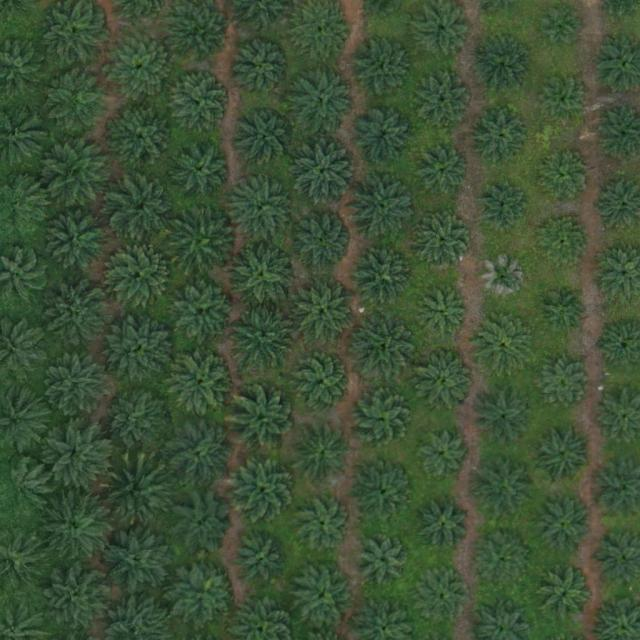Dead: (481, 256, 528, 303)
Healthy: (106, 33, 177, 104), (169, 206, 240, 277), (229, 454, 300, 525), (44, 421, 115, 492), (45, 139, 115, 210), (109, 103, 179, 174), (226, 175, 296, 246), (227, 241, 297, 312), (232, 303, 302, 374), (291, 137, 361, 208), (349, 172, 419, 243), (349, 313, 419, 384), (228, 385, 298, 456), (102, 387, 172, 458), (102, 459, 172, 530), (42, 565, 113, 635), (44, 207, 114, 277), (43, 350, 113, 420), (109, 175, 179, 245), (108, 315, 178, 385), (104, 525, 174, 595), (39, 492, 109, 562), (170, 3, 233, 66), (172, 140, 235, 203), (352, 245, 415, 308), (472, 385, 535, 448), (474, 457, 537, 520), (292, 565, 355, 628), (169, 352, 232, 415), (167, 422, 230, 485), (49, 284, 111, 347), (110, 244, 172, 307), (170, 71, 233, 133), (174, 280, 236, 343), (234, 40, 296, 103), (235, 106, 297, 169), (293, 68, 355, 131), (292, 210, 355, 272), (352, 38, 414, 101), (354, 105, 416, 168), (476, 313, 538, 376), (531, 354, 593, 417), (531, 423, 593, 486), (354, 461, 417, 523), (292, 423, 354, 486), (173, 494, 235, 557), (174, 563, 236, 626), (43, 3, 105, 65), (51, 72, 113, 134), (294, 283, 356, 345), (415, 350, 477, 412), (352, 389, 414, 451), (292, 352, 354, 414), (418, 76, 473, 132), (536, 216, 591, 272), (415, 148, 470, 203), (417, 216, 472, 271), (476, 41, 531, 96), (474, 111, 529, 166), (538, 153, 593, 208), (538, 569, 593, 624), (417, 431, 472, 486), (358, 533, 413, 588), (297, 498, 352, 553), (235, 533, 290, 588), (537, 500, 591, 555), (476, 538, 530, 593), (421, 289, 468, 337), (422, 503, 469, 551), (480, 185, 527, 232), (421, 573, 468, 620)
Small: (537, 283, 592, 338), (540, 80, 587, 127), (541, 5, 580, 44)
